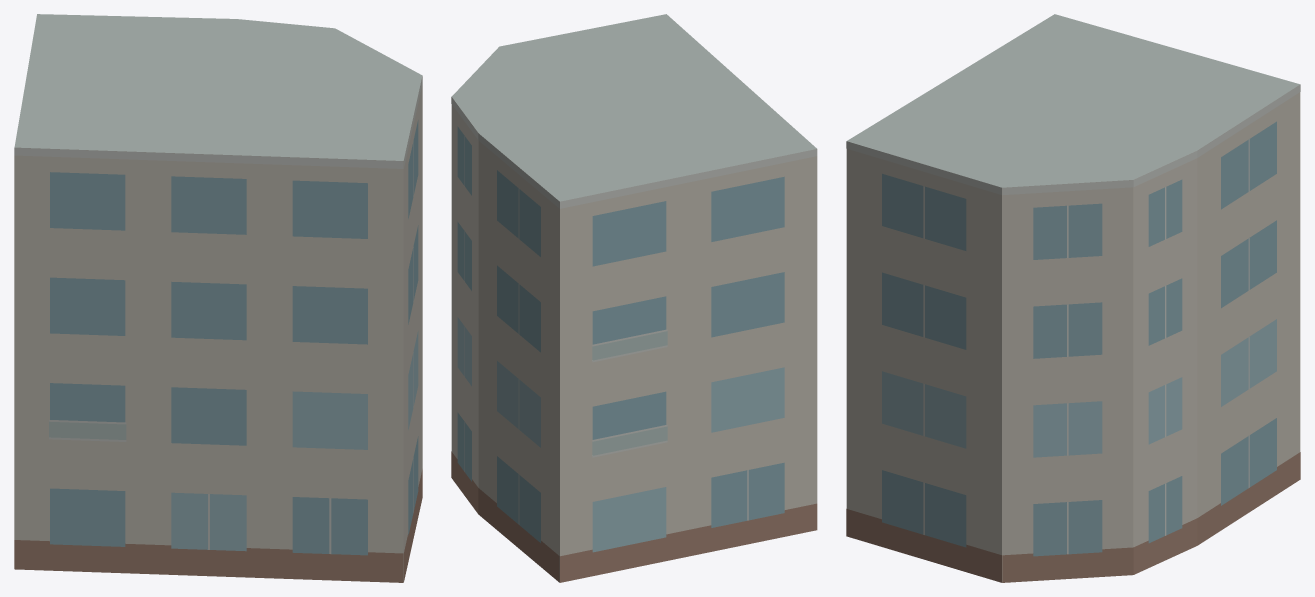
The model's file is survey-upis-32615489.glb.
3 renders of one model, left to right at view 1: azimuth 30°, elevation 25°; view 2: azimuth 150°, elevation 25°; view 3: azimuth 270°, elevation 25°, orthographic. The views are drawn at different scales.
Parts seen in each view (by area): view 1: survey-upis-32615489.tmp; view 2: survey-upis-32615489.tmp; view 3: survey-upis-32615489.tmp.
Part boxes in pixels (box(x1,y1,x2,y2)): survey-upis-32615489.tmp: box(14, 14, 422, 582); survey-upis-32615489.tmp: box(451, 14, 817, 582); survey-upis-32615489.tmp: box(846, 14, 1300, 582).
Size of the model in its own units: 12.16 by 12.89 by 13.43.
